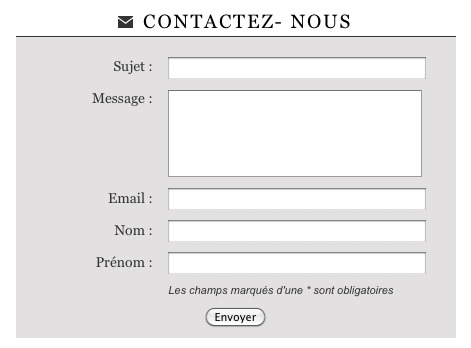button: (204, 307, 264, 327)
field: (166, 89, 423, 178), (167, 54, 426, 81), (166, 250, 426, 276), (167, 218, 428, 243), (166, 186, 426, 209)
